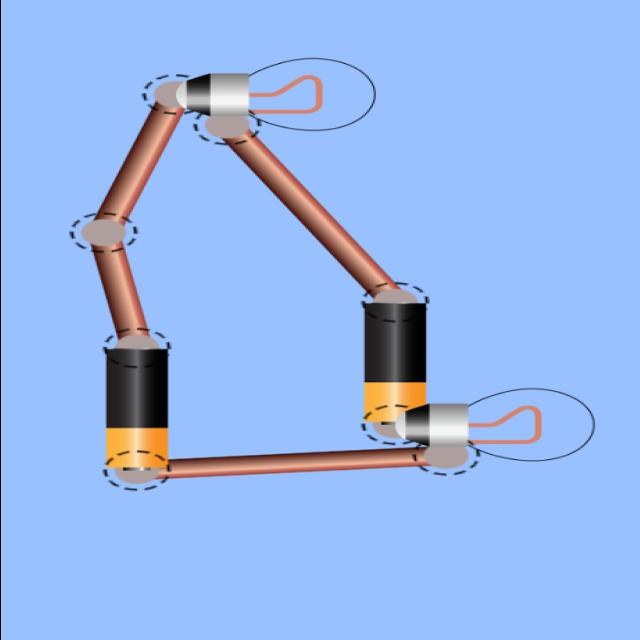Battery: (105, 336, 168, 484), (363, 302, 425, 425)
Light Bulb: (394, 389, 592, 461), (175, 59, 372, 130)
Wire: (232, 135, 396, 296), (96, 101, 184, 222), (158, 449, 429, 478), (93, 243, 147, 339)
